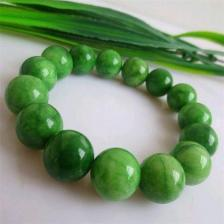green: (0, 0, 224, 75), (43, 130, 94, 183), (91, 148, 141, 201), (140, 153, 186, 204), (15, 103, 63, 150), (170, 141, 212, 186), (4, 75, 49, 115), (19, 56, 57, 91), (180, 123, 219, 156), (41, 45, 73, 79), (178, 103, 212, 129), (167, 84, 197, 112), (70, 44, 96, 75), (122, 57, 149, 86), (96, 49, 122, 79), (146, 69, 173, 97)
